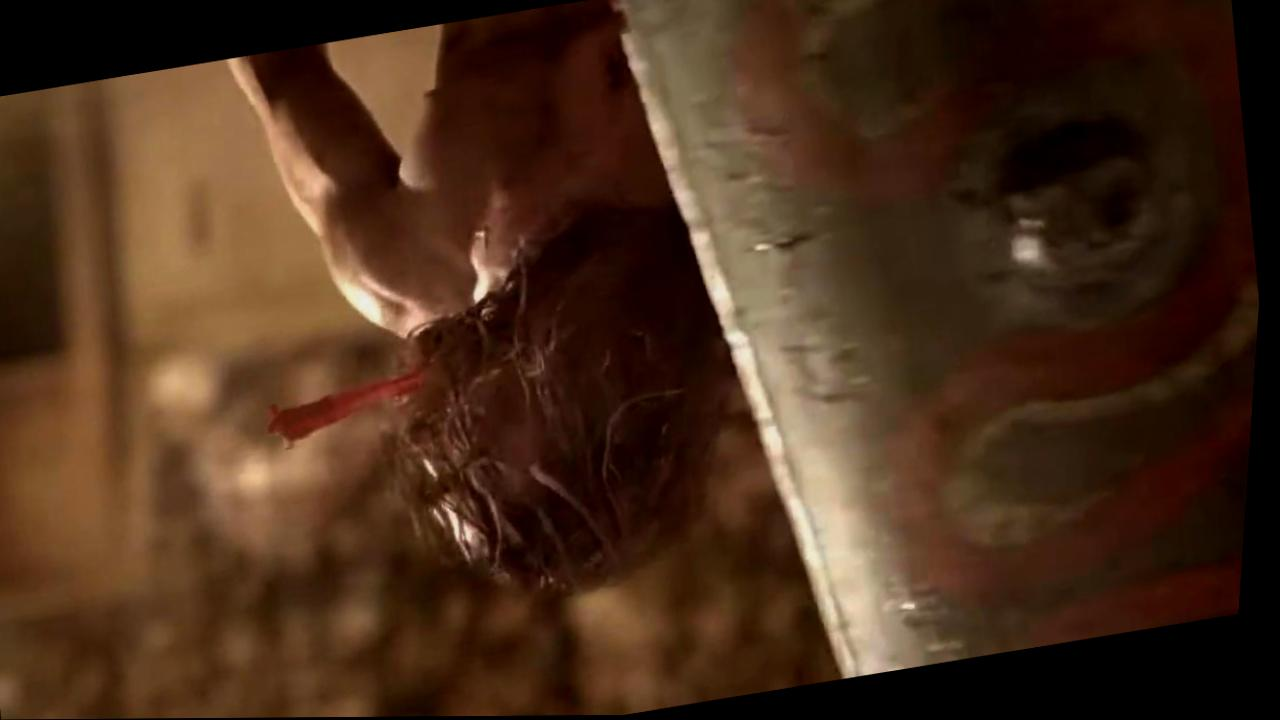Fire: (274, 370, 428, 449)
